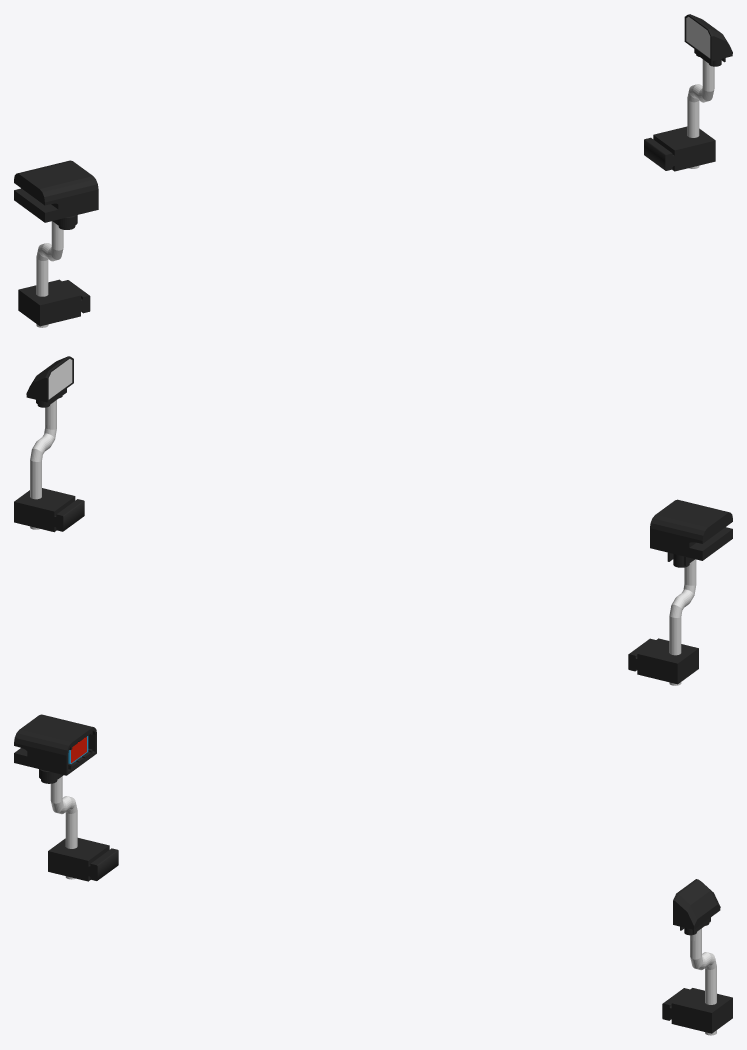
Rendered from Sensor.fbx.
3 views of the same model, one above another, from view 1: azimuth 30°, elevation 25°; view 2: azimuth 150°, elevation 25°; view 3: azimuth 330°, elevation 25° (orthographic).
Parts seen in each view (by area): view 1: Cube.002, Cube.004; view 2: Cube.002, Cube.004; view 3: Cube.002, Cube.004.
Boxes of the visible parts, x1,y1,x2,y2 form: Cube.002: (14,160,98,327); Cube.004: (644,14,732,171); Cube.002: (628,499,732,685); Cube.004: (14,356,84,532); Cube.002: (14,714,118,881); Cube.004: (662,879,732,1035).
Size of the model in its own units: 61.4 by 13.72 by 6.36.
